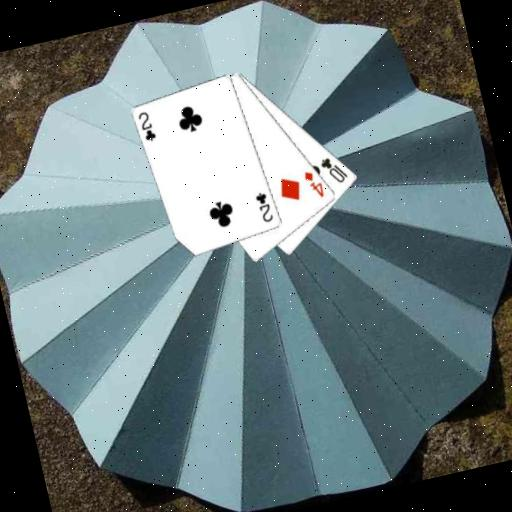10C: (317, 150, 352, 188)
2C: (252, 189, 276, 226), (135, 108, 159, 145)
4D: (300, 166, 327, 202)
